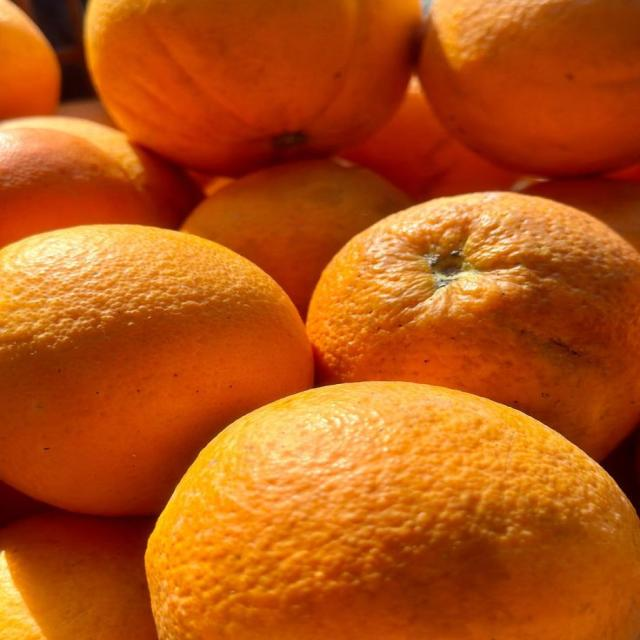orange: (147, 382, 639, 639), (0, 225, 313, 514), (307, 192, 639, 459), (86, 0, 420, 175), (419, 0, 639, 175), (182, 160, 413, 317), (0, 116, 201, 228), (340, 78, 518, 201), (0, 514, 157, 639), (0, 128, 164, 246), (521, 177, 639, 250), (0, 0, 60, 120), (0, 481, 52, 527), (57, 99, 113, 126)
